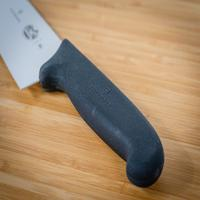knife: (1, 1, 163, 184)
